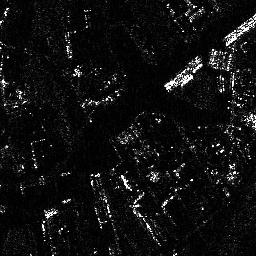ship: (165, 54, 205, 89)
